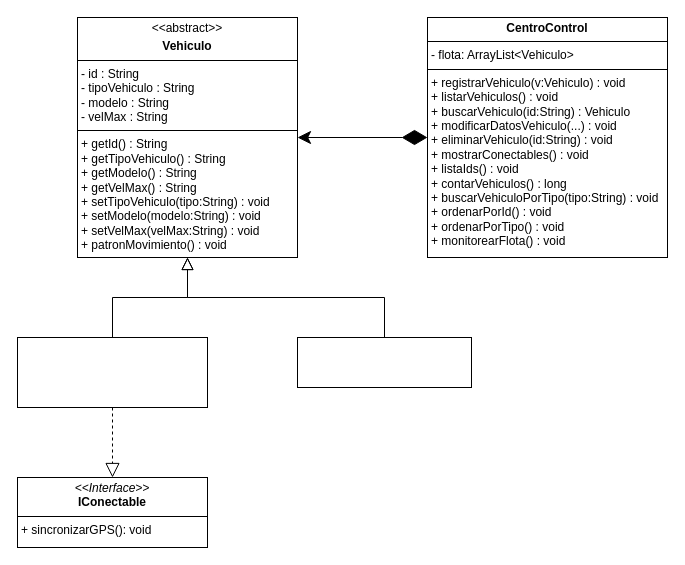
This 685x565 diagram has some shape labels left out. The shapes that lost their labels are listed below. From the top down, each one's centre as x and y in pixels, then its label:
At [112,372]: "DronTransporte + patronMovimiento(): void + sincronizarGPS(): void".
At [384,362]: "CamionAutonomo + patronMovimiento(): void".
